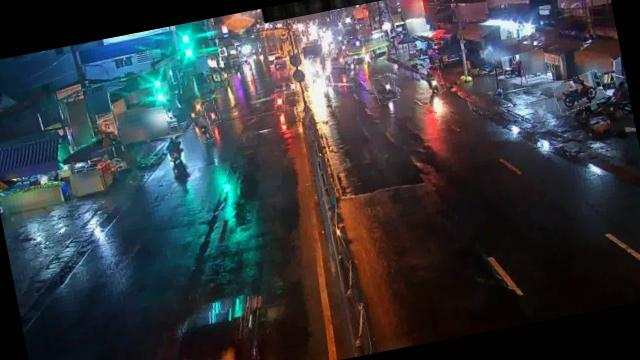Bike: (552, 70, 606, 114), (158, 134, 188, 162), (372, 72, 399, 103), (419, 64, 445, 96), (193, 112, 214, 142), (202, 98, 220, 126), (272, 88, 288, 114)
